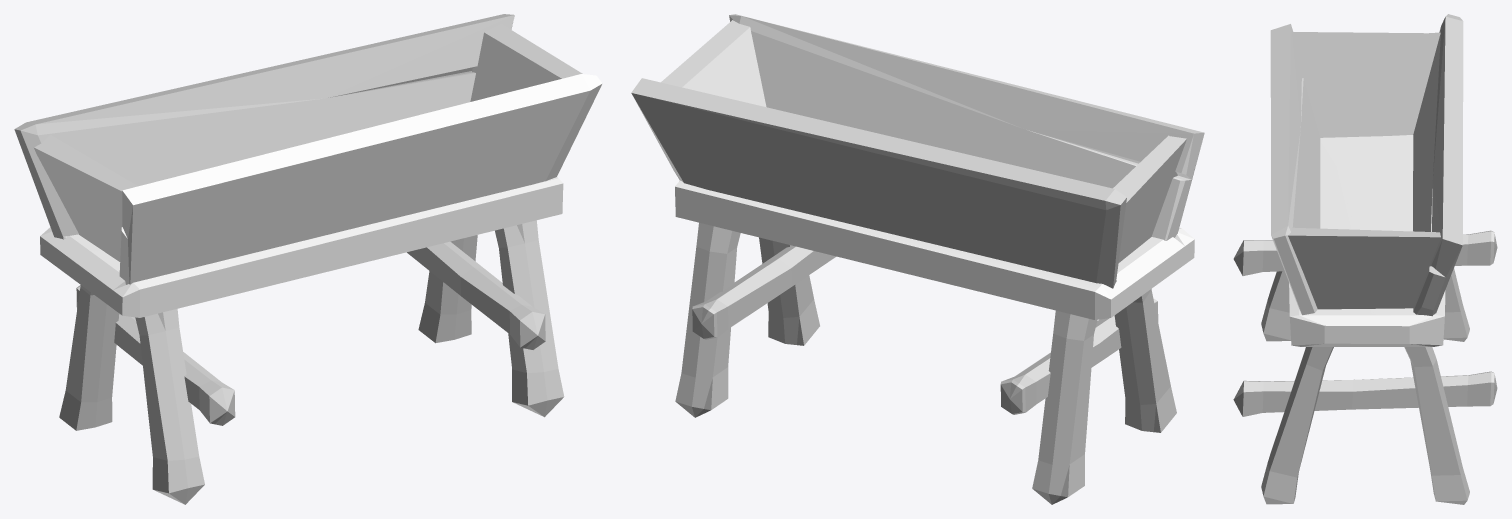
File: PT_Trough_01.fbx
The picture shows the model from 3 angles, left to right: view 1: azimuth 30°, elevation 25°; view 2: azimuth 150°, elevation 25°; view 3: azimuth 270°, elevation 25°; orthographic projection. The views are drawn at different scales.
Visible parts, largest first — view 1: PT_Trough_01; view 2: PT_Trough_01; view 3: PT_Trough_01.
Part boxes in pixels (bbox=[...]): PT_Trough_01: bbox=[14, 14, 602, 504]; PT_Trough_01: bbox=[631, 14, 1204, 504]; PT_Trough_01: bbox=[1233, 14, 1497, 504].
Bounding box in the file's own units: 124 × 77.96 × 61.96.
1 material, 1 textured.
